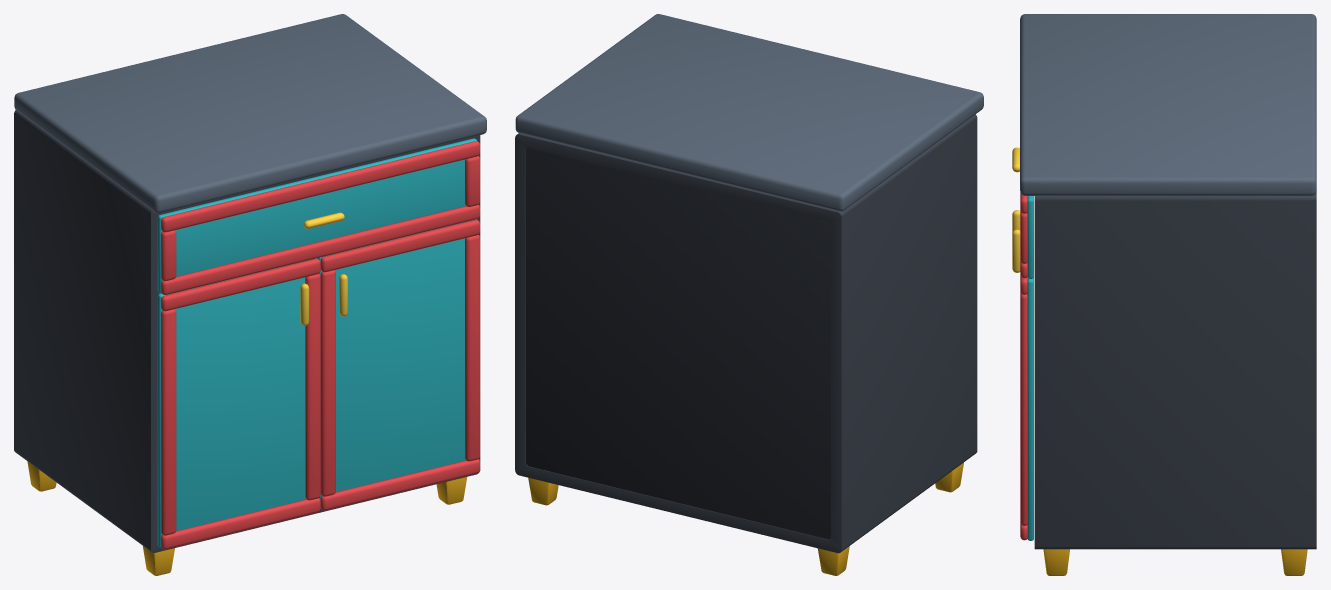
File: armario_cozinha_base_2portas_grafite.glb
The picture shows the model from 3 angles, left to right: view 1: azimuth 30°, elevation 25°; view 2: azimuth 150°, elevation 25°; view 3: azimuth 270°, elevation 25°; orthographic projection. The views are drawn at different scales.
Parts seen in each view (by area): view 1: armario_cozinha_base_2portas_grafite, porta_1, porta_2, gaveta_1; view 2: armario_cozinha_base_2portas_grafite; view 3: armario_cozinha_base_2portas_grafite, porta_2, gaveta_1.
Boxes of the visible parts, <box> form: armario_cozinha_base_2portas_grafite: <box>14,14,486,575</box>; porta_1: <box>157,258,320,549</box>; porta_2: <box>317,219,480,510</box>; gaveta_1: <box>157,138,480,294</box>; armario_cozinha_base_2portas_grafite: <box>515,14,983,575</box>; armario_cozinha_base_2portas_grafite: <box>1020,14,1316,575</box>; porta_2: <box>1012,229,1033,540</box>; gaveta_1: <box>1012,147,1033,278</box>.
Size of the model in its own units: 0.798 by 0.9 by 0.6147.
Materials: 1 (1 with a texture image).
